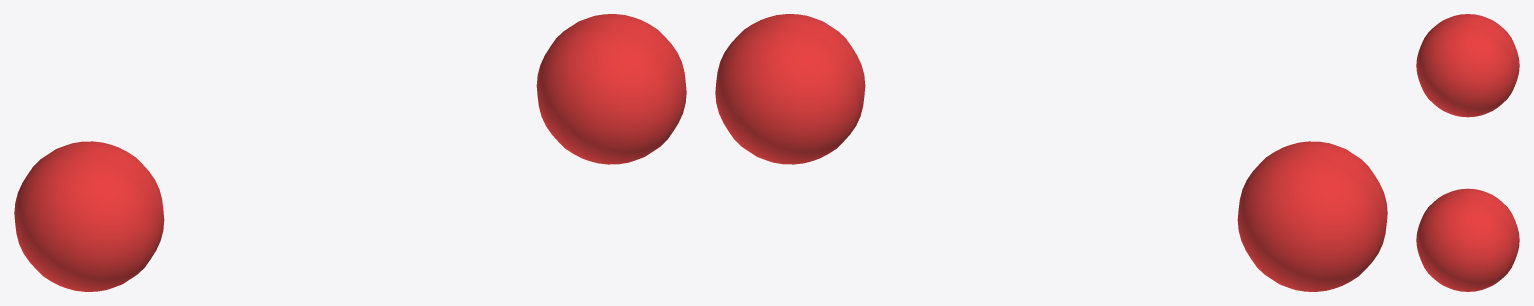
File: negative_tokens.fbx
3 renders of one model, left to right at view 1: azimuth 30°, elevation 25°; view 2: azimuth 150°, elevation 25°; view 3: azimuth 270°, elevation 25°, orthographic. The views are drawn at different scales.
Visible parts, largest first — view 1: negative_token, negative_token1; view 2: negative_token, negative_token1; view 3: negative_token, negative_token1.
Part boxes in pixels (box(x1,y1,x2,y2)): negative_token: box(14, 141, 164, 291); negative_token1: box(536, 14, 686, 164); negative_token: box(1237, 141, 1387, 291); negative_token1: box(715, 14, 865, 164); negative_token: box(1416, 14, 1519, 117); negative_token1: box(1416, 188, 1519, 291).
Bounding box in the file's own units: 5 × 1 × 1.
Materials: 1 (1 with a texture image).
